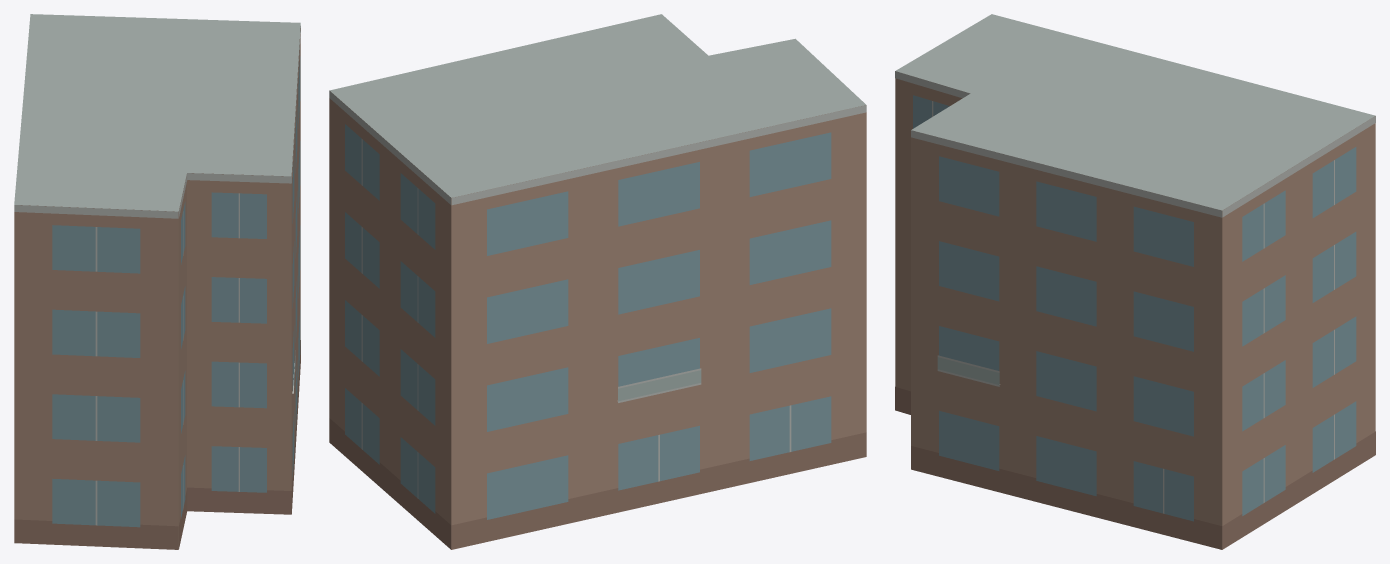
The model's file is survey-upis-32818047.glb.
The picture shows the model from 3 angles, left to right: view 1: azimuth 30°, elevation 25°; view 2: azimuth 150°, elevation 25°; view 3: azimuth 270°, elevation 25°; orthographic projection. The views are drawn at different scales.
Visible parts, largest first — view 1: survey-upis-32818047.tmp; view 2: survey-upis-32818047.tmp; view 3: survey-upis-32818047.tmp.
Part boxes in pixels (x1,y1,x2,y2): survey-upis-32818047.tmp: [14, 14, 300, 549]; survey-upis-32818047.tmp: [329, 14, 866, 549]; survey-upis-32818047.tmp: [895, 14, 1375, 549].
Size of the model in its own units: 14.29 by 11.5 by 14.77.
